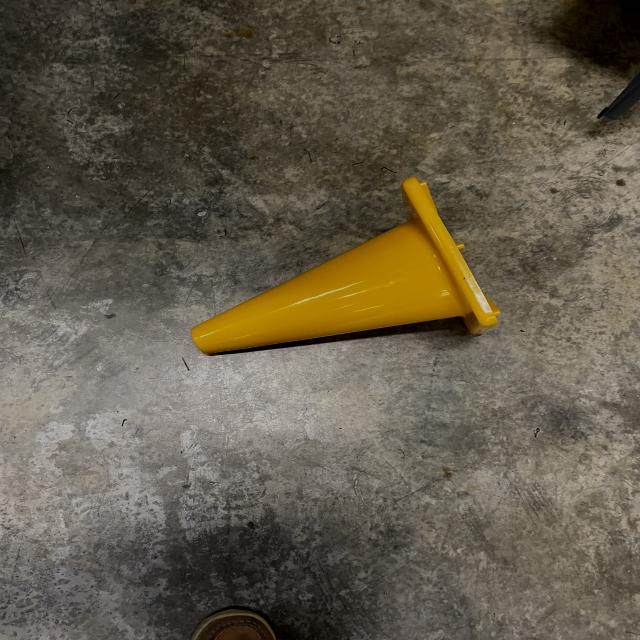frc_cone: (187, 174, 533, 360)
